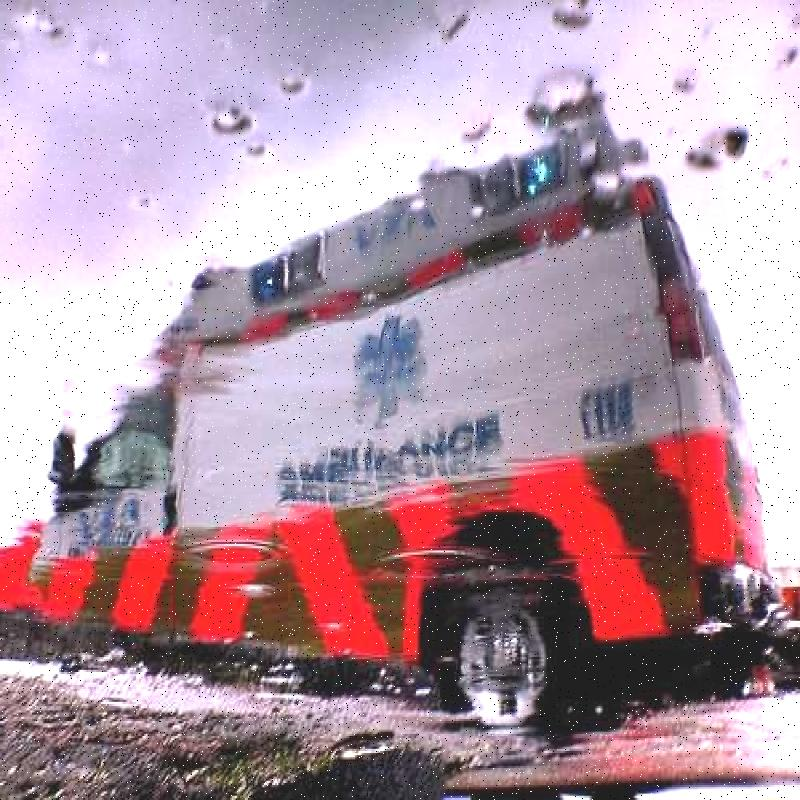AmbulanceSiren: (473, 132, 578, 235)
